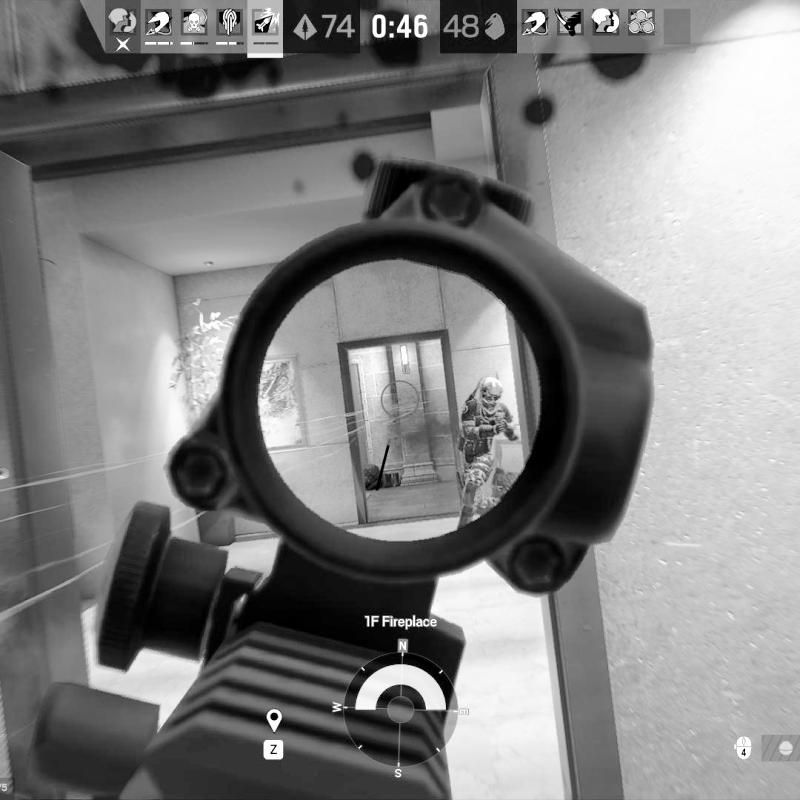Character: (450, 376, 521, 524)
Head: (478, 378, 505, 408)
